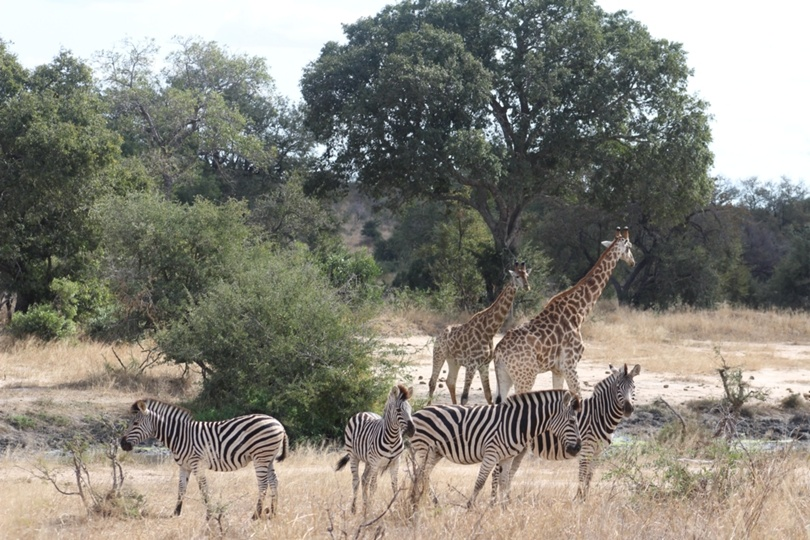giraffe: (491, 222, 639, 461), (424, 258, 537, 409)
zebra: (114, 390, 297, 533), (403, 386, 585, 528), (501, 359, 646, 532), (331, 382, 418, 525)
